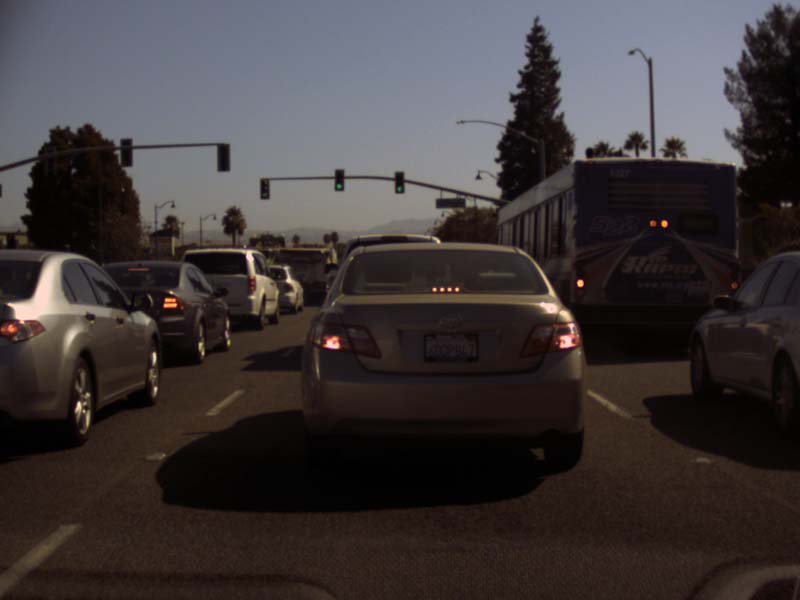Green: (335, 169, 343, 190), (395, 172, 403, 192), (260, 178, 268, 198)
